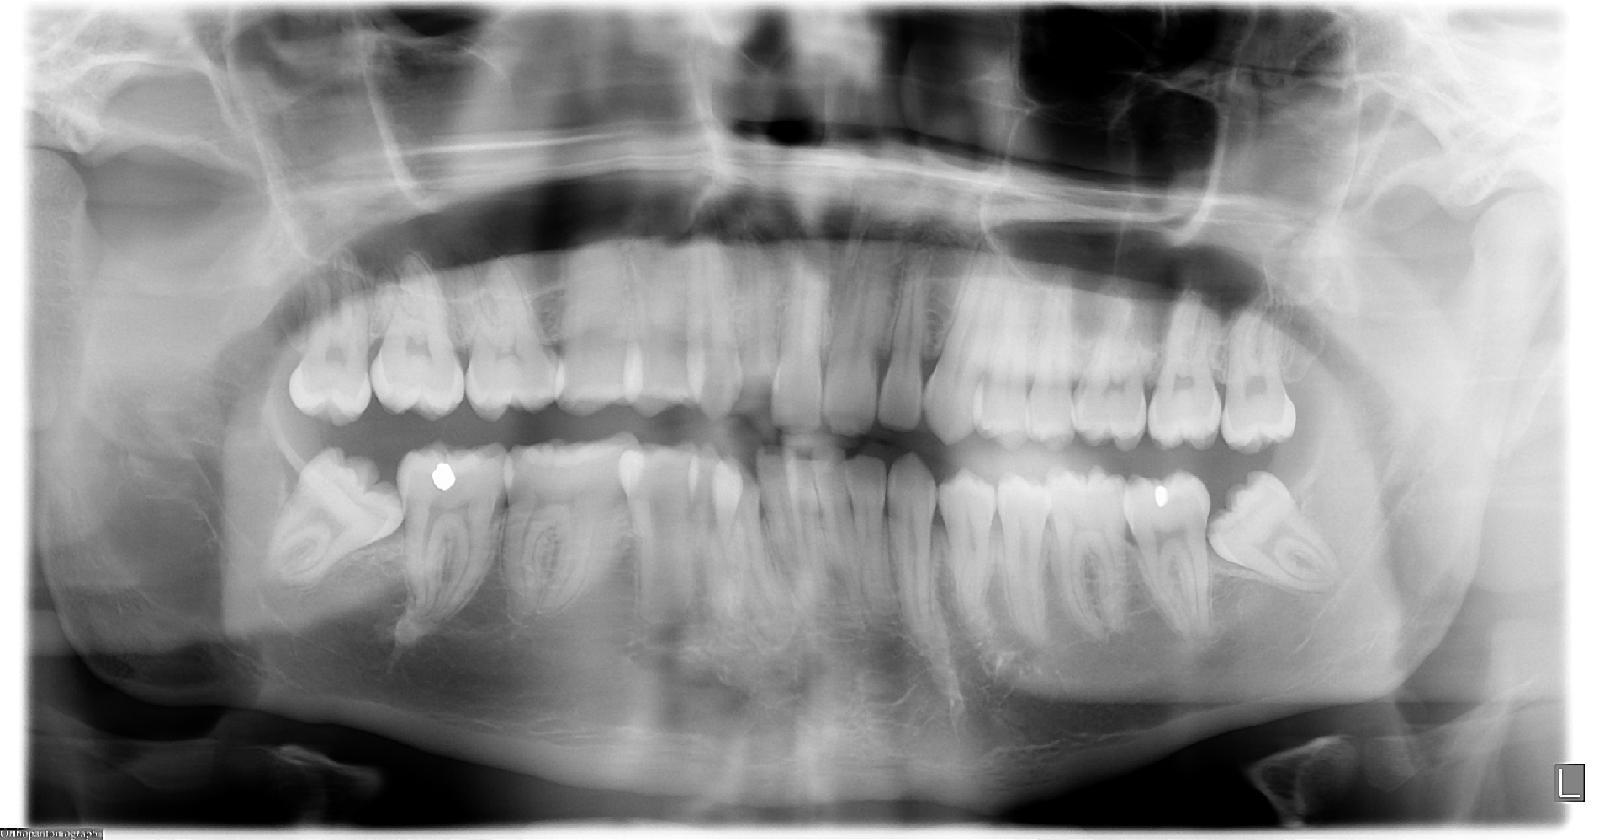Mesio-angular: (1200, 470, 1352, 600)
Vertical: (269, 439, 409, 607)
